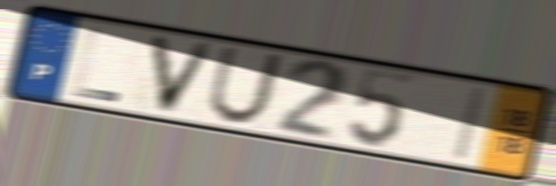2: (273, 57, 353, 144)
5: (345, 64, 423, 151)
I: (449, 84, 492, 165)
L: (69, 24, 124, 105)
U: (204, 44, 288, 128)
V: (146, 31, 219, 118)
